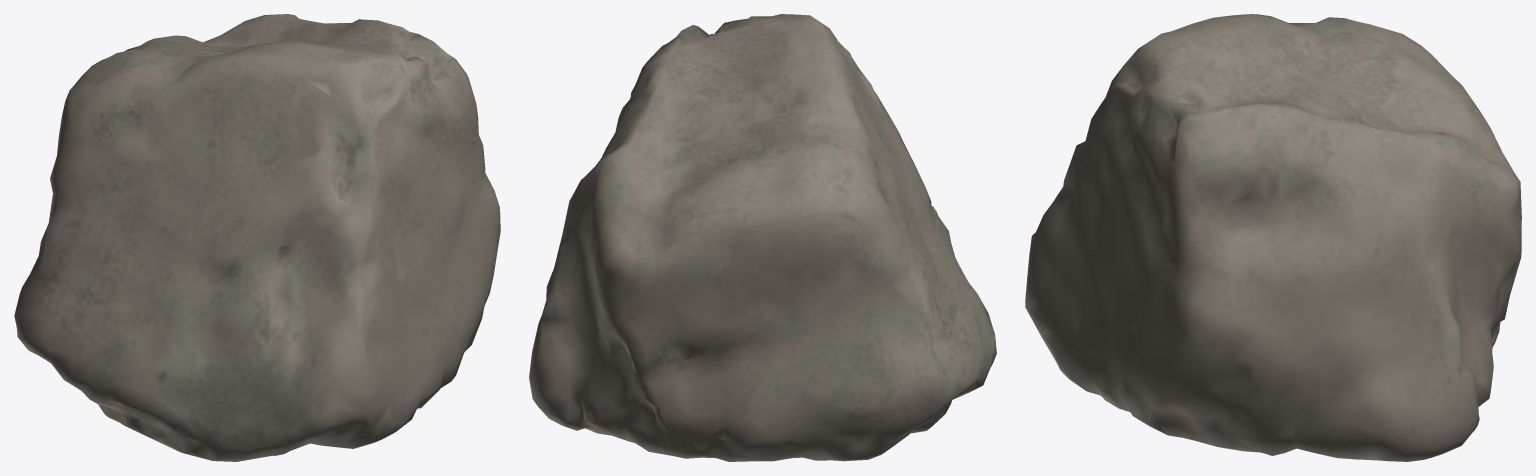
The model's file is moon_rock_02.glb.
3 renders of one model, left to right at view 1: azimuth 30°, elevation 25°; view 2: azimuth 150°, elevation 25°; view 3: azimuth 270°, elevation 25°, orthographic. The views are drawn at different scales.
Parts seen in each view (by area): view 1: moon_rock_02_LOD0; view 2: moon_rock_02_LOD0; view 3: moon_rock_02_LOD0.
Part boxes in pixels (box(x1,y1,x2,y2)): moon_rock_02_LOD0: box(14, 14, 500, 461); moon_rock_02_LOD0: box(529, 14, 996, 461); moon_rock_02_LOD0: box(1025, 14, 1521, 461).
Size of the model in its own units: 0.2465 by 0.2019 by 0.2513.
Materials: 1 (1 with a texture image).
